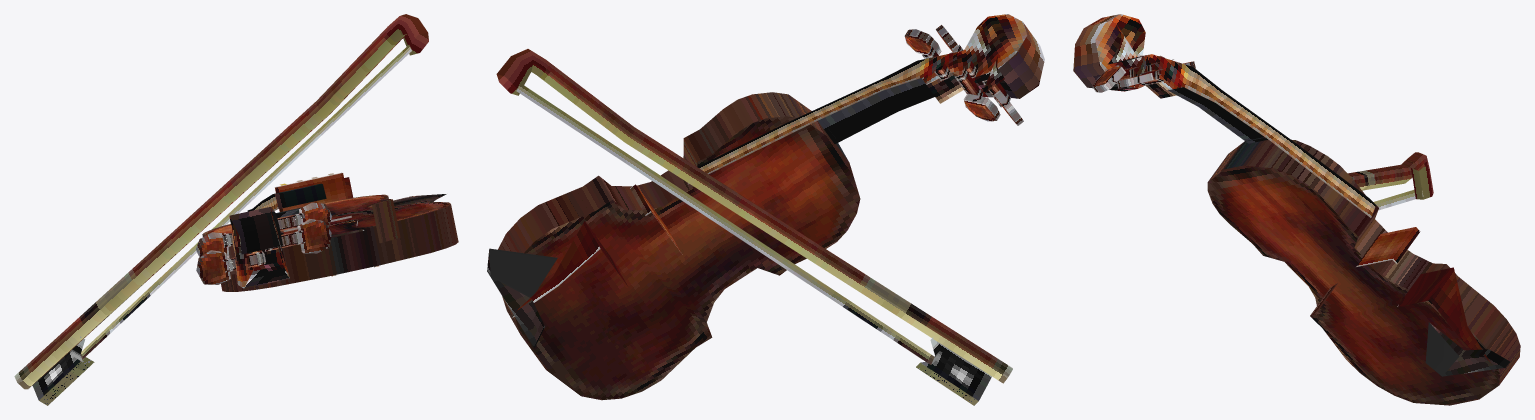
Rendered from ps2_save-icons_kinironocorda.glb.
The picture shows the model from 3 angles, left to right: view 1: azimuth 30°, elevation 25°; view 2: azimuth 150°, elevation 25°; view 3: azimuth 270°, elevation 25°; orthographic projection. The views are drawn at different scales.
Parts seen in each view (by area): view 1: CORDA.ICO; view 2: CORDA.ICO; view 3: CORDA.ICO.
Part boxes in pixels (x1,y1,x2,y2): CORDA.ICO: [14, 14, 458, 405]; CORDA.ICO: [487, 14, 1044, 405]; CORDA.ICO: [1073, 14, 1520, 405].
Size of the model in its own units: 4.95 by 2.89 by 4.22.
Materials: 1 (1 with a texture image).
